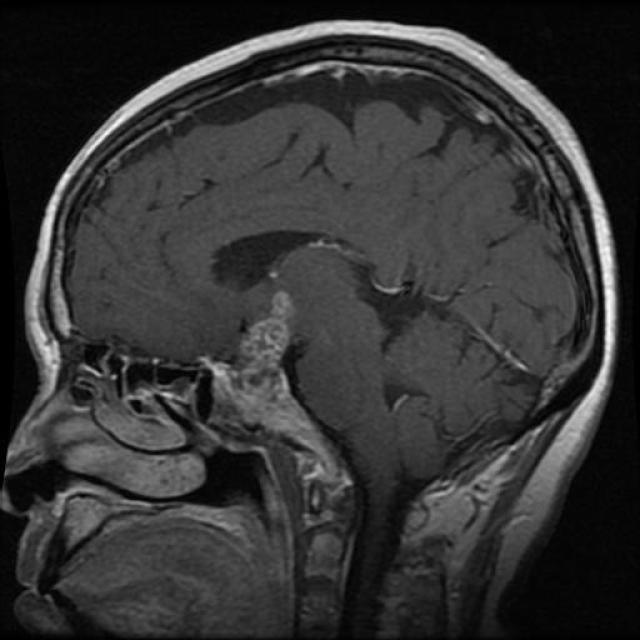pituitary: (221, 269, 305, 392)
